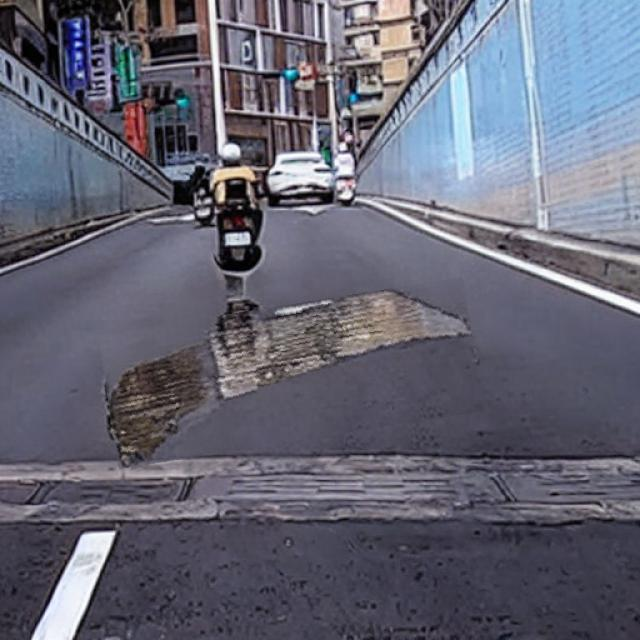puddle: (103, 292, 481, 456)
